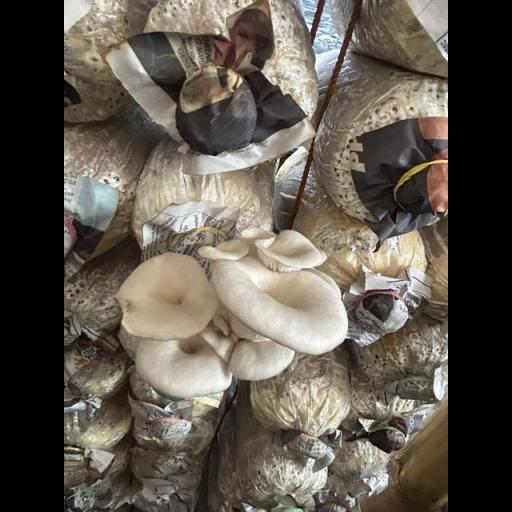White Oyster Mushroom: (117, 227, 354, 395)
